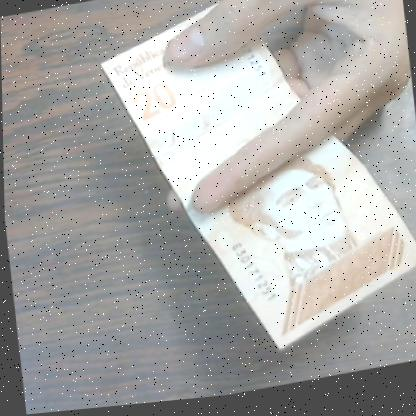twenty-front-vef: (91, 0, 416, 382)
